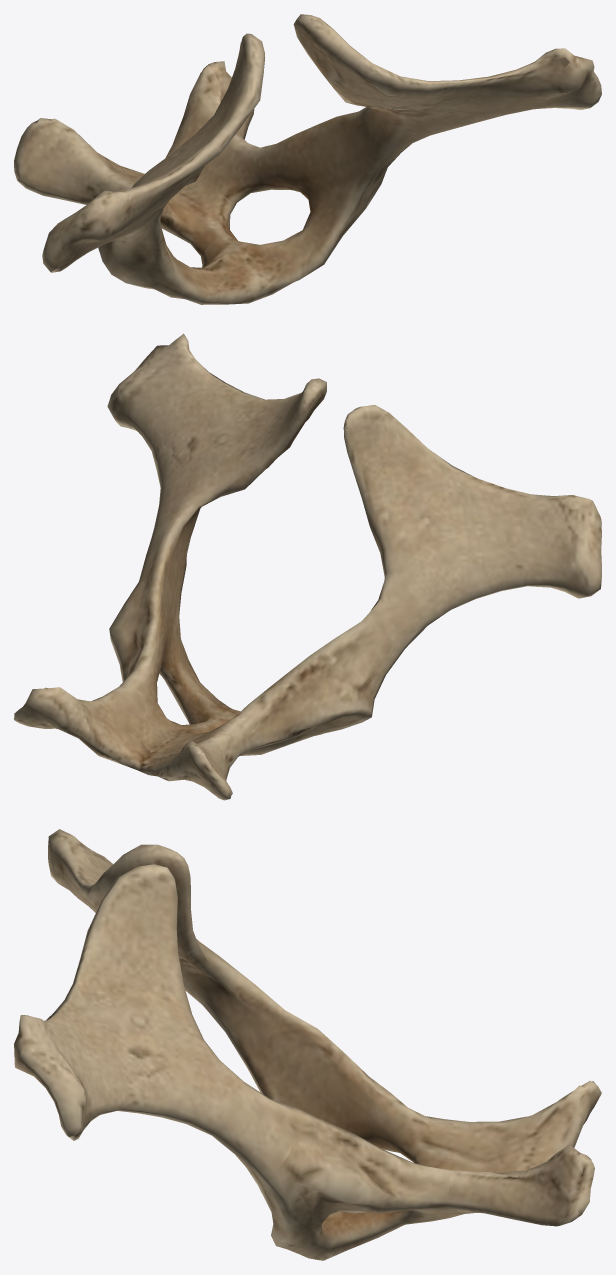
The model's file is Pelvis.glb.
The picture shows the model from 3 angles, top to bottom: view 1: azimuth 30°, elevation 25°; view 2: azimuth 150°, elevation 25°; view 3: azimuth 270°, elevation 25°; orthographic projection. The views are drawn at different scales.
Parts seen in each view (by area): view 1: Pelvis; view 2: Pelvis; view 3: Pelvis.
Part boxes in pixels (x1,y1,x2,y2): Pelvis: (14, 14, 601, 304); Pelvis: (14, 333, 601, 800); Pelvis: (14, 829, 601, 1260).
Size of the model in its own units: 0.5175 by 0.3122 by 0.4367.
1 material, 1 textured.
